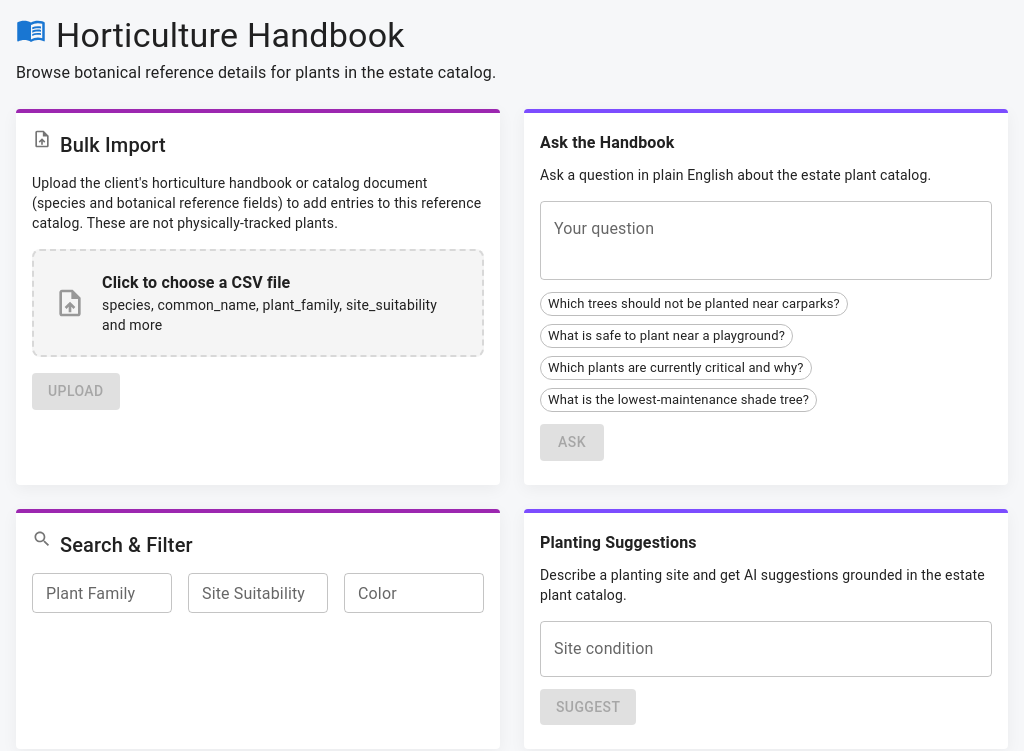
Scenario: HorticultureHandbook › submits a condition to Planting Suggestions and displays recommendations
The image size is (1024, 751).
Type "shaded car park" into the field labelled "Site condition".
click(766, 648); type("shaded car park")  # box [540,620,992,676]
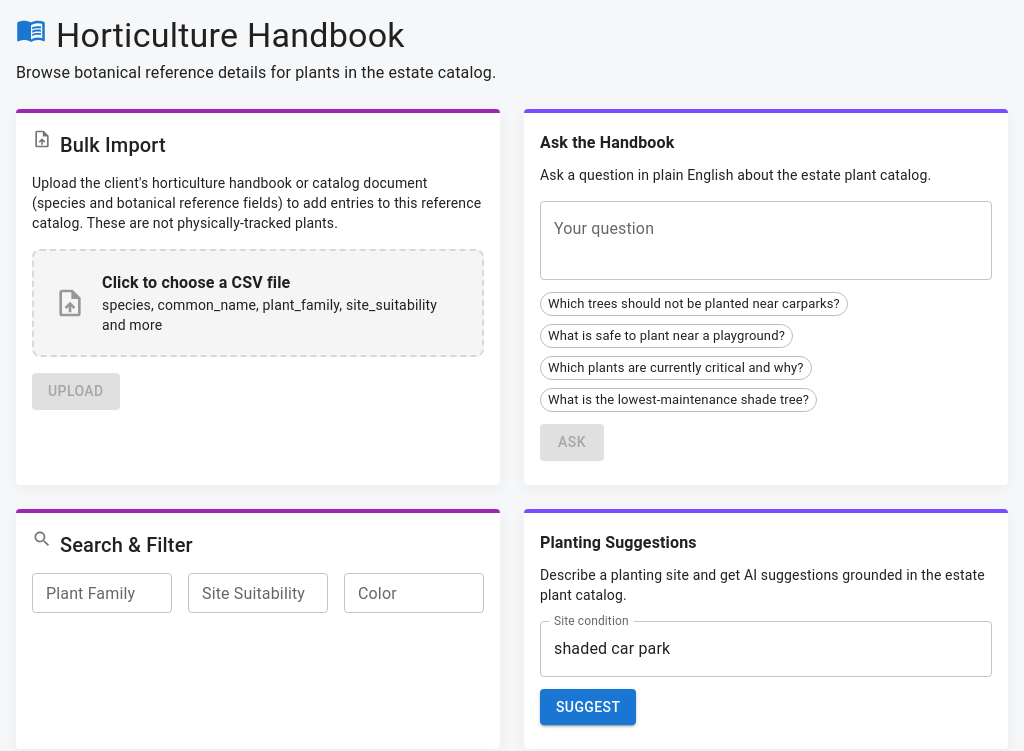
Click the button "Suggest".
click(588, 707)  # box [540,688,636,725]
(page scrolled)
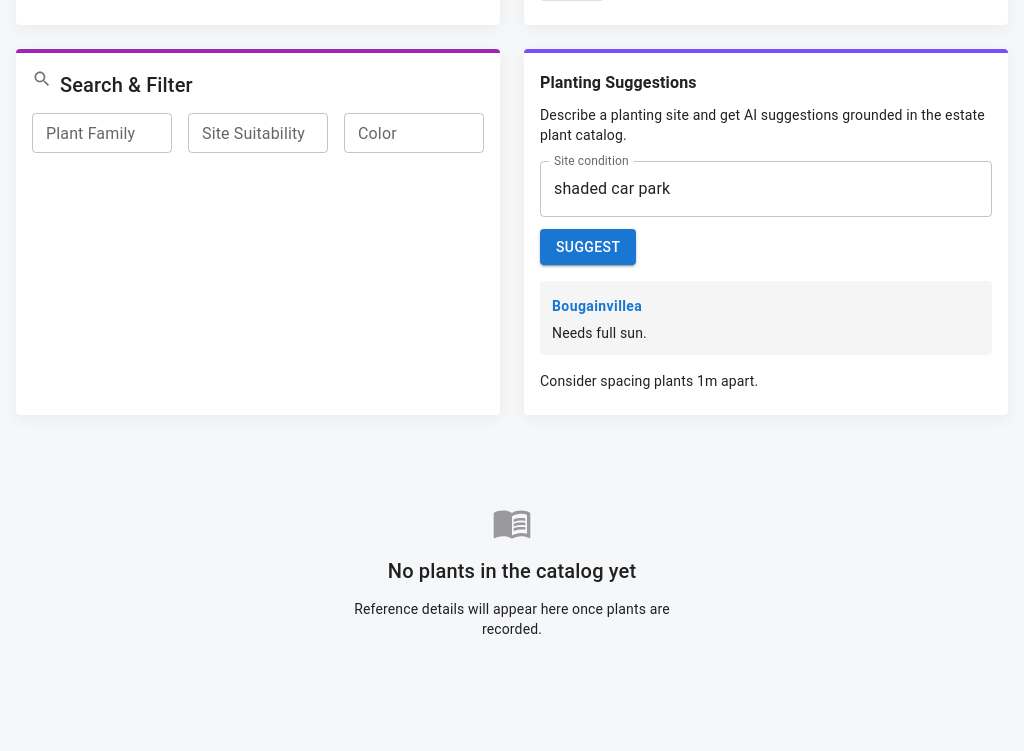
Now the button "Bougainvillea" is shown, box [552,294,642,319]
Now the text "Needs full sun." is shown, box [552,325,647,341]
Now the text "Consider spacing plants 1m apart." is shown, box [540,373,758,389]
